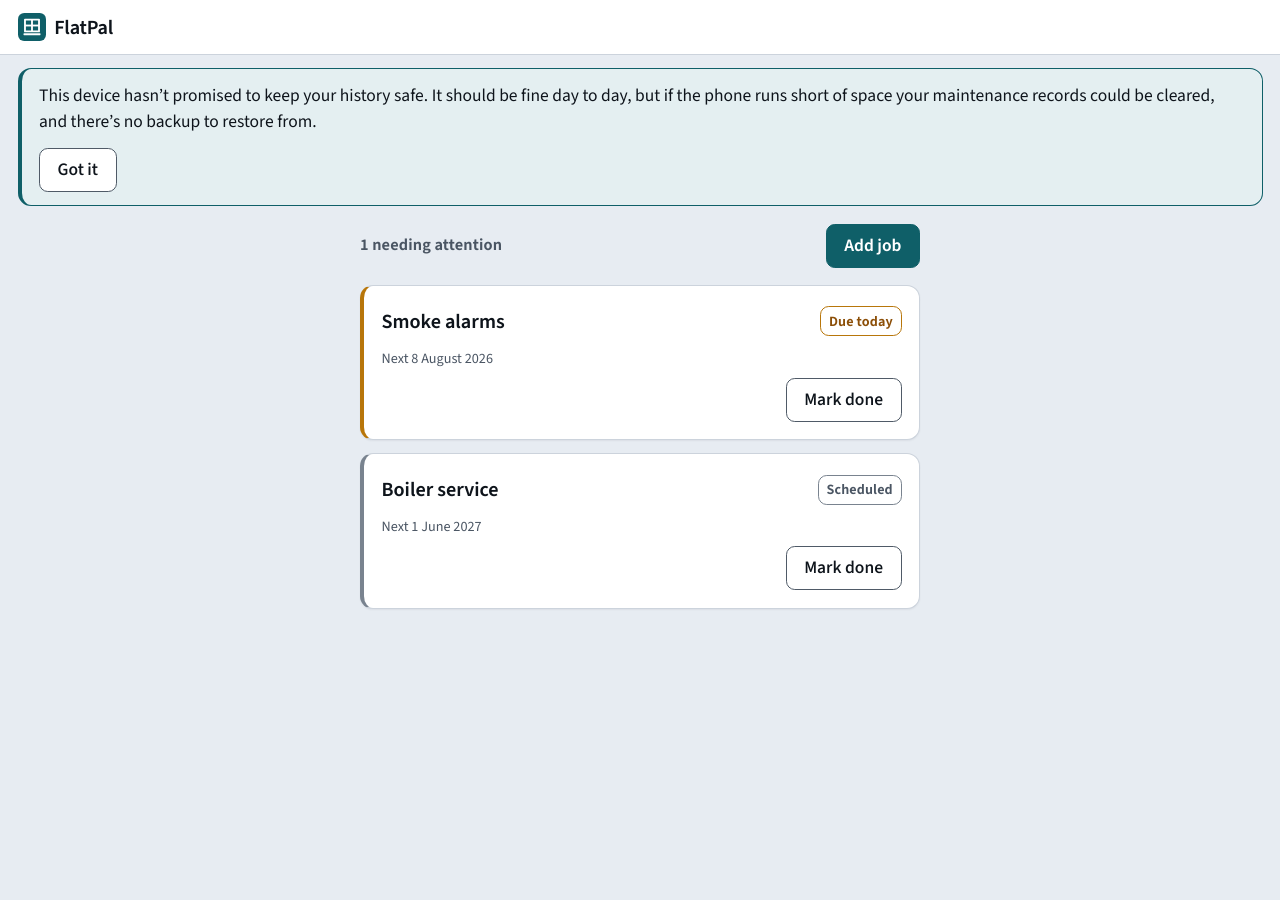
Test case: undo takes back the tick-off it named, and only that one › removes exactly the entry the offer named when nothing else has been saved
Expected: the button "Boiler service" is shown, [382,468,499,512]
Click the button "Mark done" below "Scheduled" at (844, 568), box [786,546,902,590]
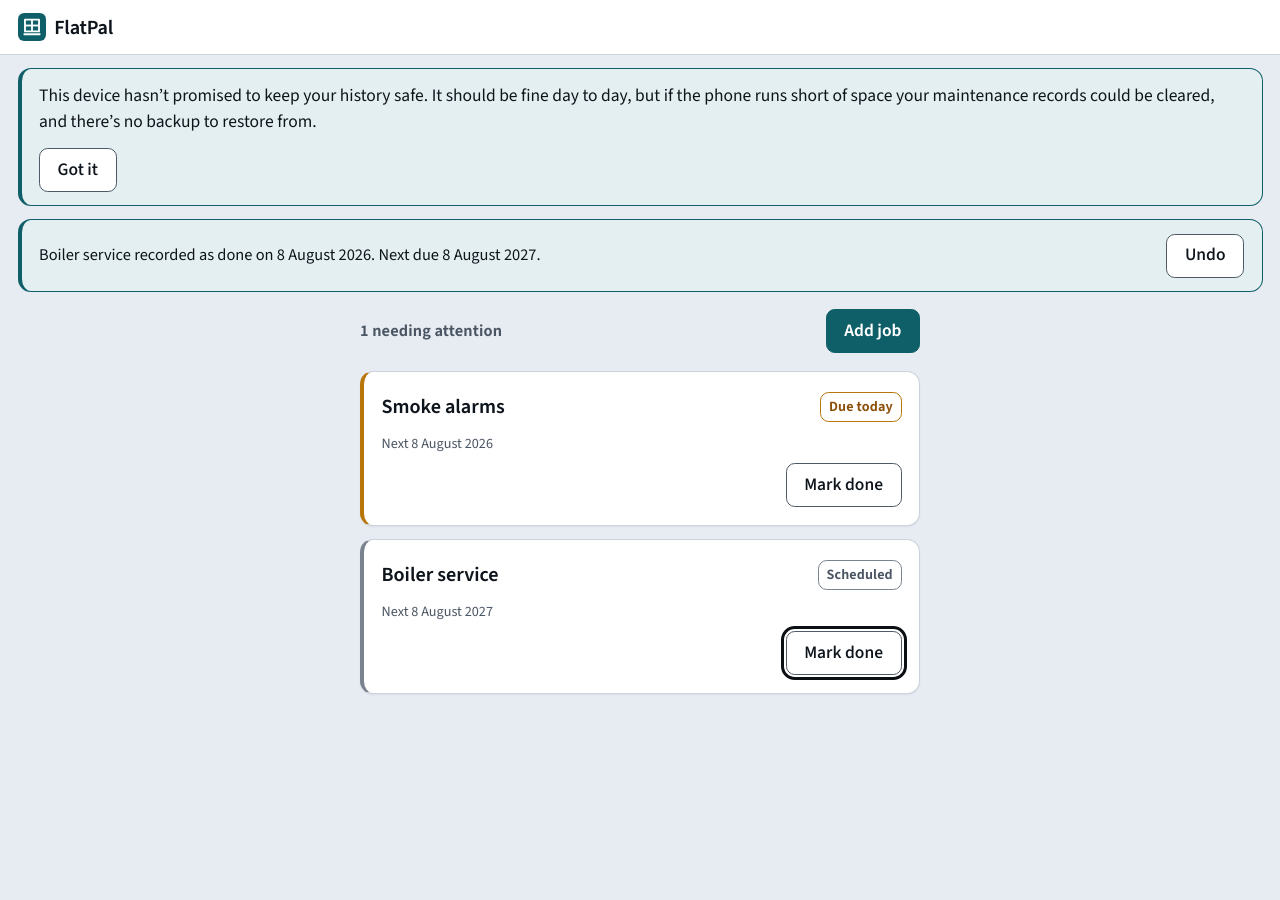
Click the button "Undo" at (1205, 256), box [1166,234,1244,278]
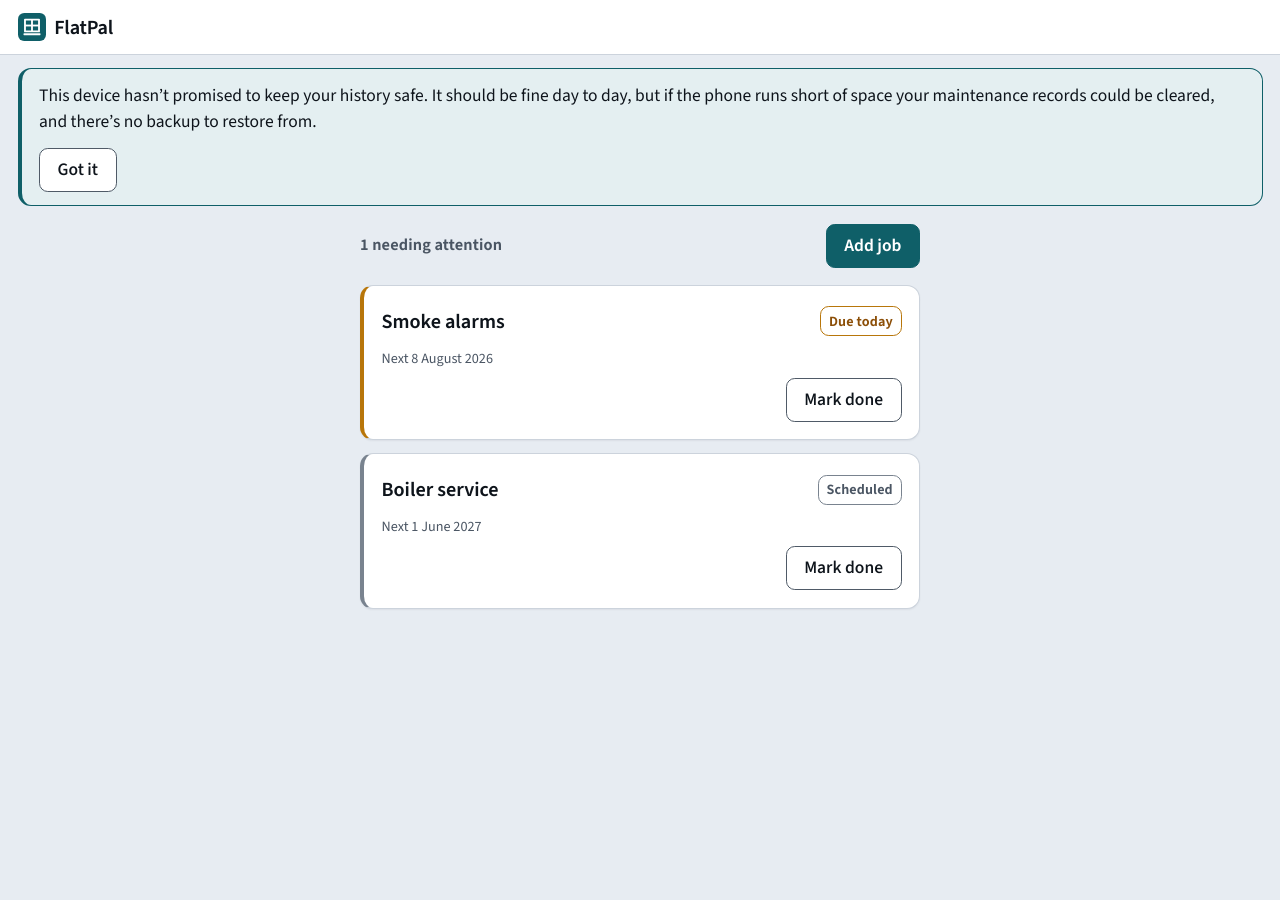
Now the button "Undo" is gone
